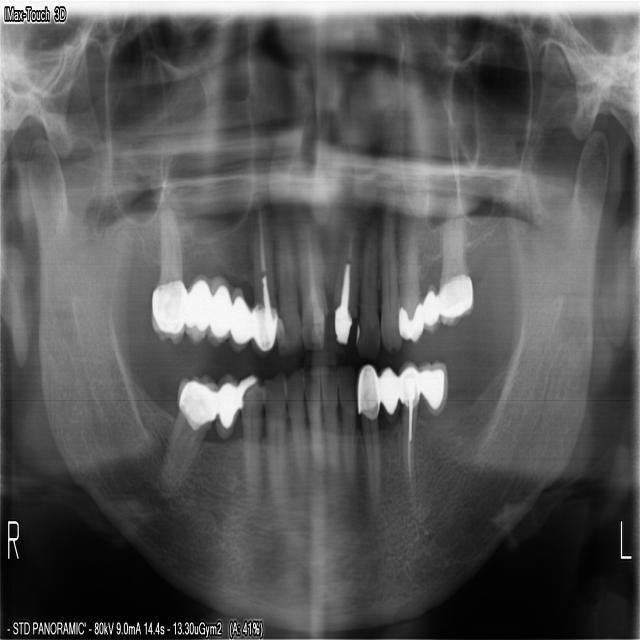LCD: (355, 363, 381, 502)
LID: (319, 362, 341, 480), (337, 361, 355, 497)
LIU: (330, 205, 358, 348), (355, 219, 381, 353), (378, 218, 400, 353)
LMD: (418, 356, 448, 422)
LMU: (434, 220, 475, 328)
LPMD: (398, 360, 420, 511), (377, 362, 399, 425)
LPMU: (397, 229, 424, 345), (421, 227, 440, 333)
RCD: (263, 375, 285, 507)
RCU: (249, 213, 276, 355)
RID: (285, 365, 309, 483), (303, 359, 324, 476)
RIU: (296, 230, 329, 352), (273, 222, 301, 358)
RMD: (159, 368, 218, 498)
RMU: (150, 274, 187, 352), (182, 269, 209, 343)
RPMD: (240, 365, 266, 514), (215, 371, 239, 441)
RPMU: (207, 238, 231, 348), (228, 243, 251, 356)
